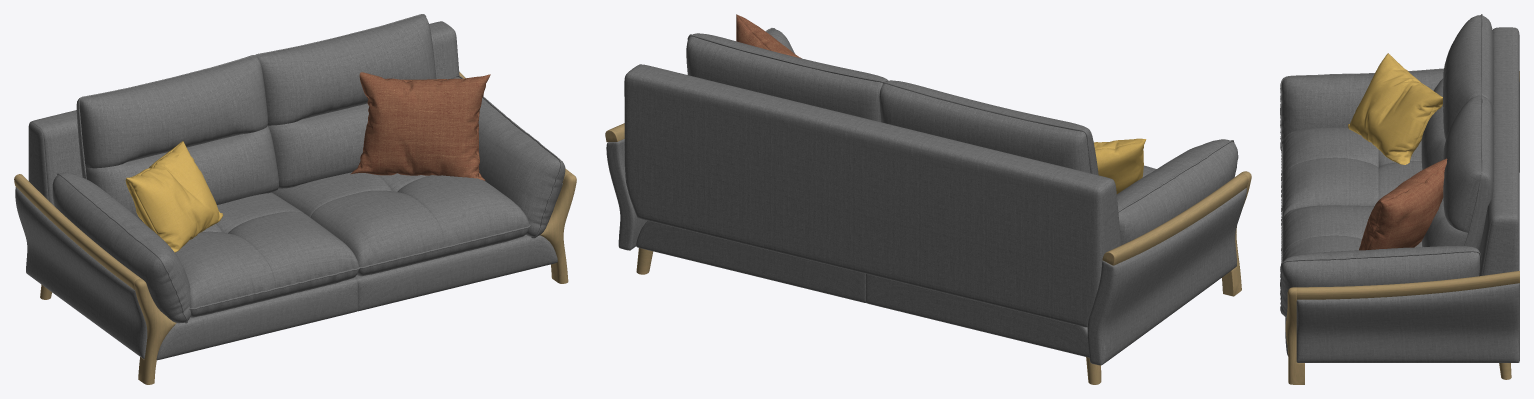
The model's file is sofa_003.glb.
3 views of the same model, side by side, from view 1: azimuth 30°, elevation 25°; view 2: azimuth 150°, elevation 25°; view 3: azimuth 270°, elevation 25° (orthographic). The views are drawn at different scales.
Parts seen in each view (by area): view 1: sofa_003; view 2: sofa_003; view 3: sofa_003.
Part boxes in pixels (x1,y1,x2,y2): sofa_003: (14,14,576,384); sofa_003: (605,14,1251,384); sofa_003: (1280,14,1519,384).
Bounding box in the file's own units: 2.03 × 0.89 × 1.
Materials: 4 (4 with a texture image).
